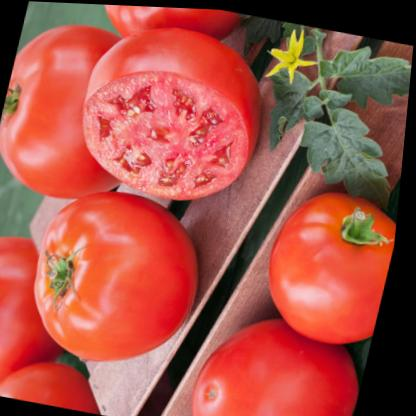---: (70, 3, 285, 210), (19, 178, 222, 374), (0, 9, 177, 219), (251, 173, 404, 350), (184, 298, 381, 416), (0, 226, 109, 399), (71, 3, 261, 74)
